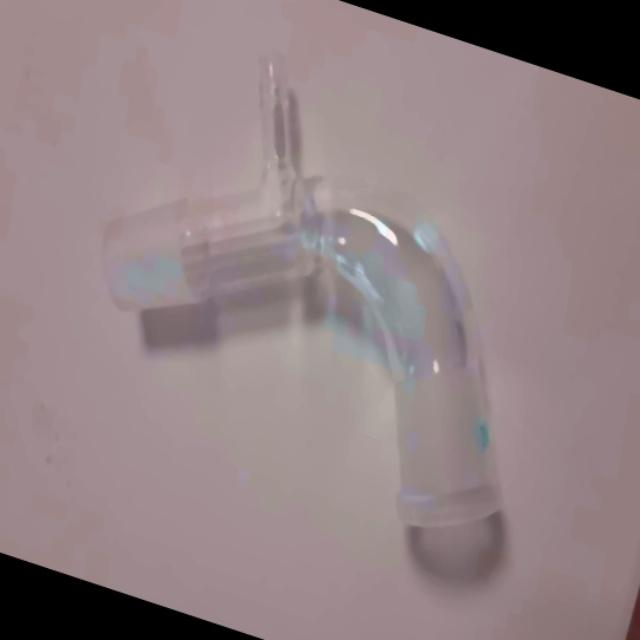Angled Extension for Vacuum Distillation: (67, 3, 580, 570)
